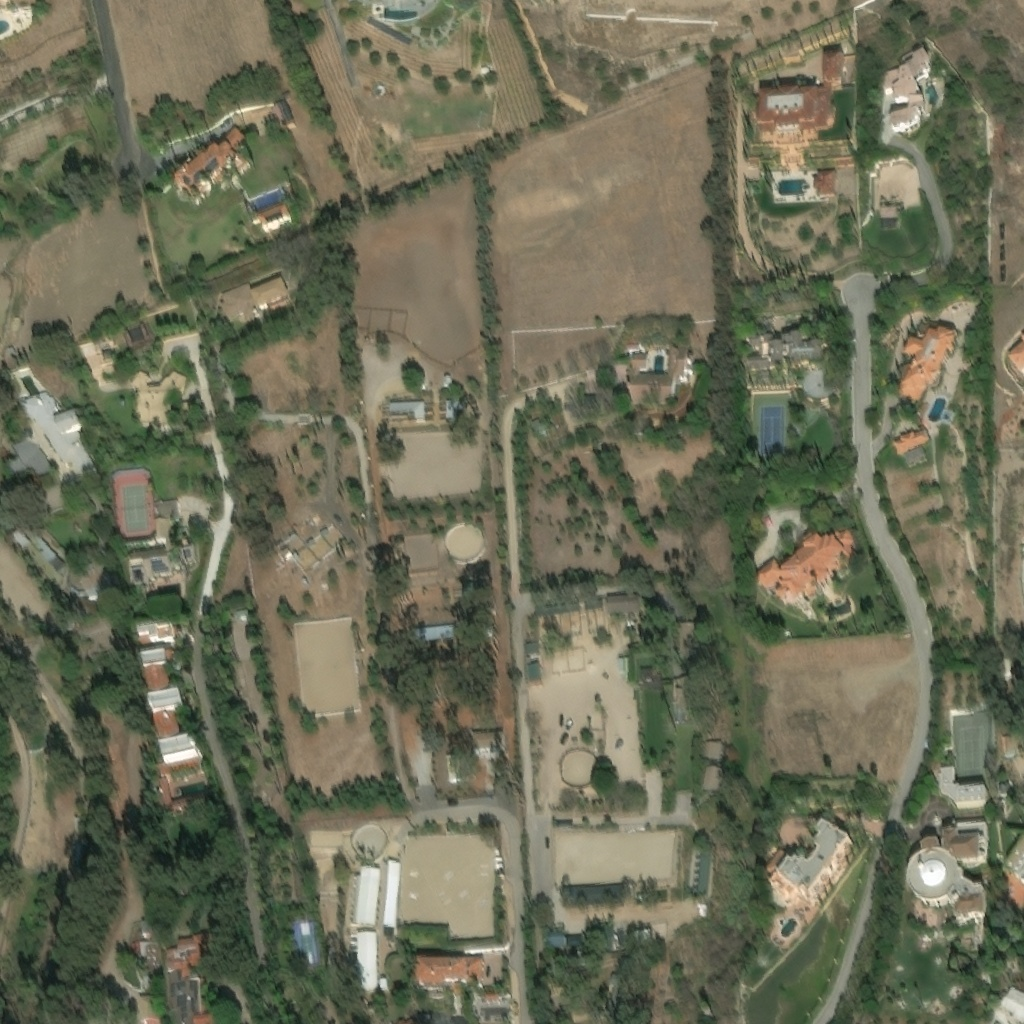0 no-damage: (753, 530, 858, 611), (907, 821, 989, 922), (142, 650, 205, 779), (759, 51, 844, 136), (765, 819, 850, 902), (23, 388, 100, 476), (871, 42, 933, 137), (898, 320, 956, 405), (130, 516, 199, 585), (165, 933, 217, 1023), (173, 146, 250, 206), (124, 365, 190, 431), (217, 276, 293, 328), (745, 331, 826, 371), (627, 337, 693, 386), (416, 953, 482, 994), (608, 957, 643, 1023), (75, 329, 118, 382), (114, 309, 158, 354), (160, 778, 212, 816), (938, 767, 986, 806), (10, 440, 54, 482), (30, 533, 69, 577), (351, 862, 378, 922), (366, 17, 416, 49), (78, 558, 114, 601), (672, 671, 709, 712), (381, 854, 399, 934), (356, 928, 378, 991), (563, 883, 624, 905), (135, 941, 162, 988), (892, 432, 932, 461), (993, 987, 1023, 1023), (137, 620, 176, 647), (697, 844, 715, 899), (257, 205, 291, 232), (1004, 833, 1023, 881), (413, 623, 456, 644), (676, 621, 698, 657), (555, 951, 592, 972), (1006, 333, 1023, 376), (388, 401, 425, 420), (135, 996, 161, 1023), (606, 594, 641, 614), (271, 98, 295, 127), (545, 929, 581, 947), (587, 925, 615, 948), (880, 203, 901, 233), (813, 173, 837, 199), (463, 578, 492, 599), (224, 127, 247, 153), (701, 763, 723, 790), (538, 602, 579, 616), (905, 451, 929, 471), (77, 838, 90, 869), (12, 533, 32, 553), (445, 399, 465, 419), (703, 742, 723, 760), (976, 926, 990, 948), (1001, 735, 1017, 754), (1000, 655, 1013, 676), (528, 663, 540, 682), (584, 599, 602, 611), (396, 1015, 422, 1023), (524, 642, 540, 654), (634, 930, 651, 941), (696, 903, 709, 917), (139, 921, 151, 936), (959, 934, 974, 946), (484, 990, 497, 1000), (624, 339, 639, 347), (236, 606, 248, 615), (379, 976, 387, 987), (443, 376, 450, 387)
